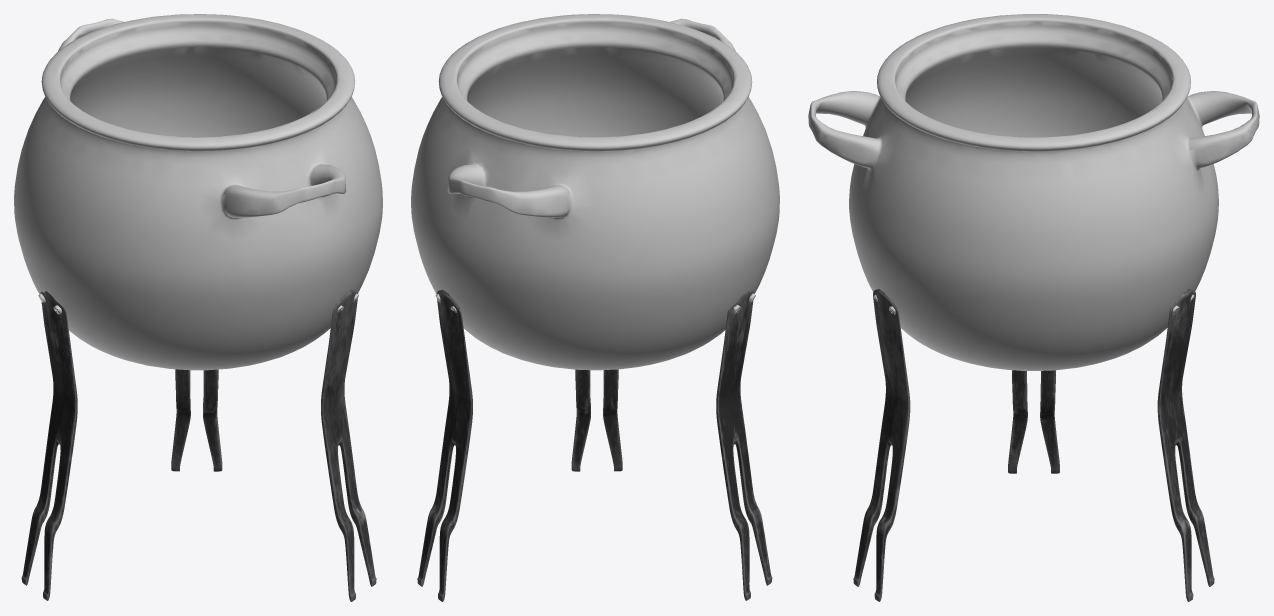
The model's file is Cauldron.obj.
3 views of the same model, side by side, from view 1: azimuth 30°, elevation 25°; view 2: azimuth 150°, elevation 25°; view 3: azimuth 270°, elevation 25° (orthographic).
Visible parts, largest first — view 1: Cauldron_main, Feet; view 2: Cauldron_main, Feet; view 3: Cauldron_main, Feet.
Boxes of the visible parts, bbox=[...] form: Cauldron_main: bbox=[14, 14, 382, 370]; Feet: bbox=[21, 289, 376, 601]; Cauldron_main: bbox=[411, 14, 779, 370]; Feet: bbox=[417, 290, 772, 601]; Cauldron_main: bbox=[808, 14, 1259, 370]; Feet: bbox=[853, 289, 1214, 601].
Size of the model in its own units: 0.7615 by 1.07 by 0.9154.
